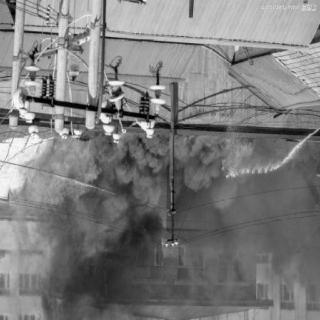Fire: (14, 128, 133, 235)
